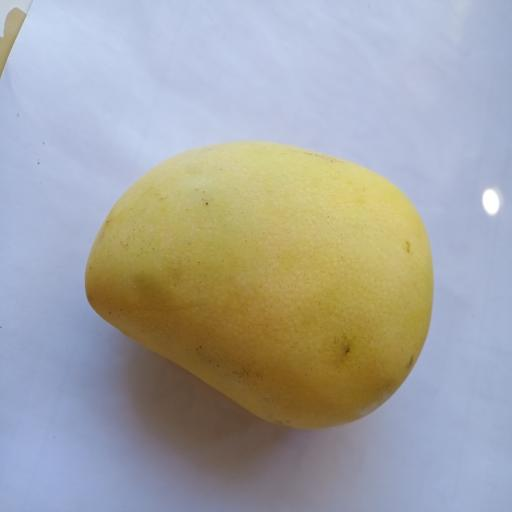mango-ripe: (69, 124, 455, 458)
